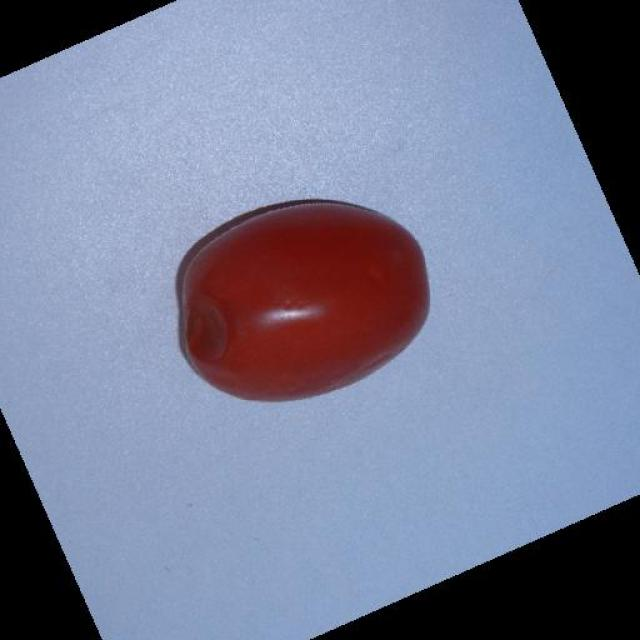Stale_tomato: (158, 198, 430, 384)
